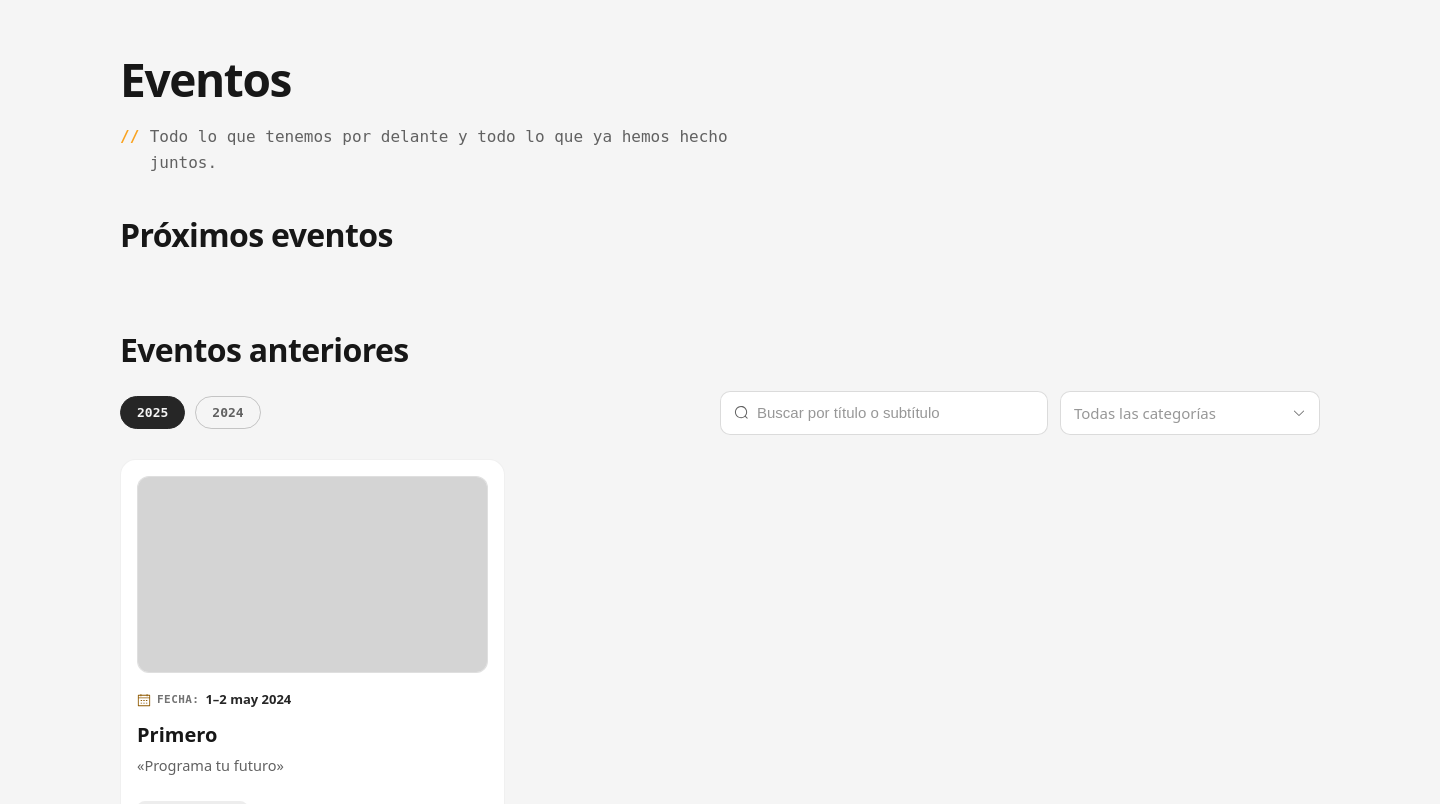
Test: events page › searches past events and reports when nothing matches
The width and height of the screenshot is (1440, 804).
Step 1. Type "  robots " into the field with placeholder "Buscar por título o subtítulo" → (896, 413), box [757,392,1034,434]
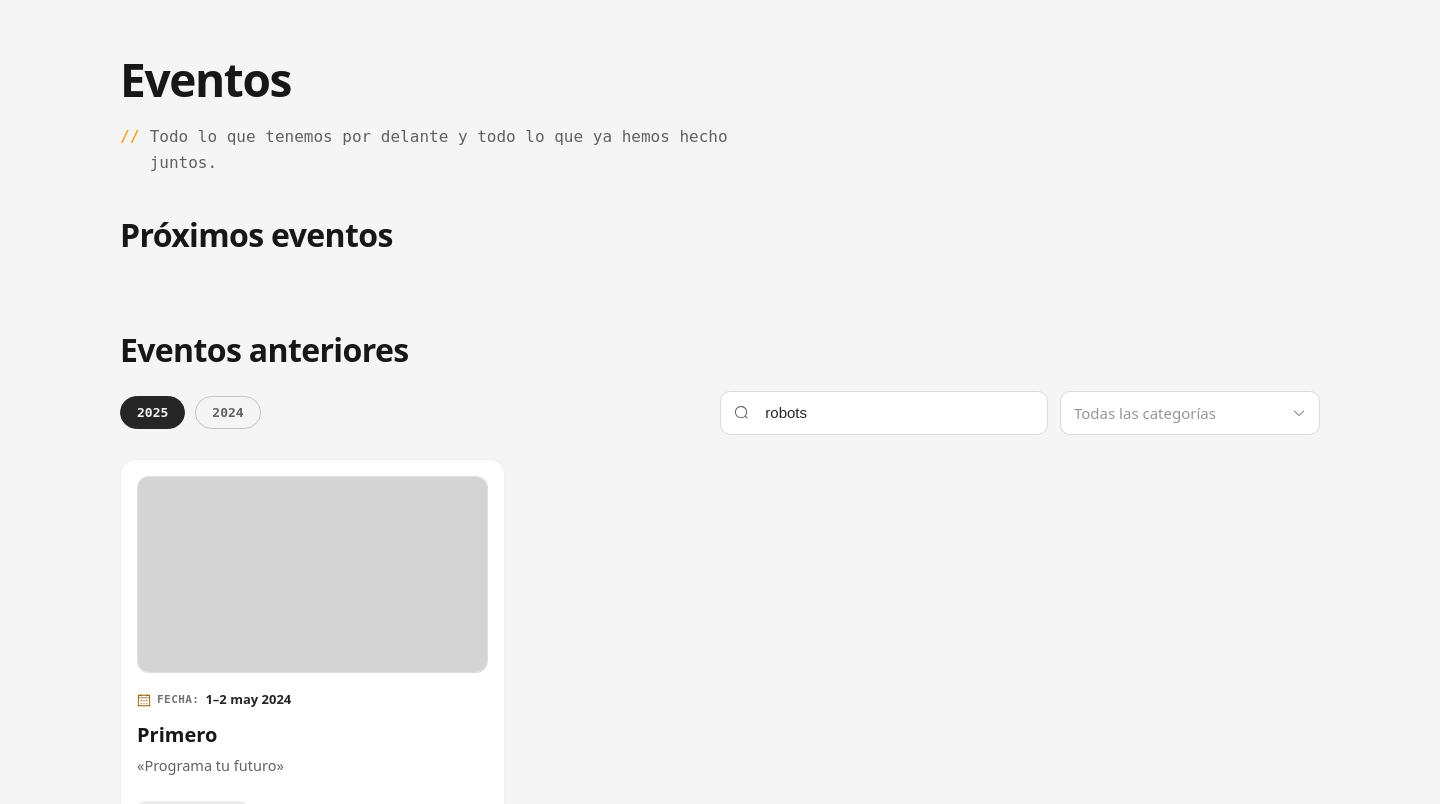
Step 2. Press Enter in the field named "Buscar por título o subtítulo", box [757,392,1034,434]
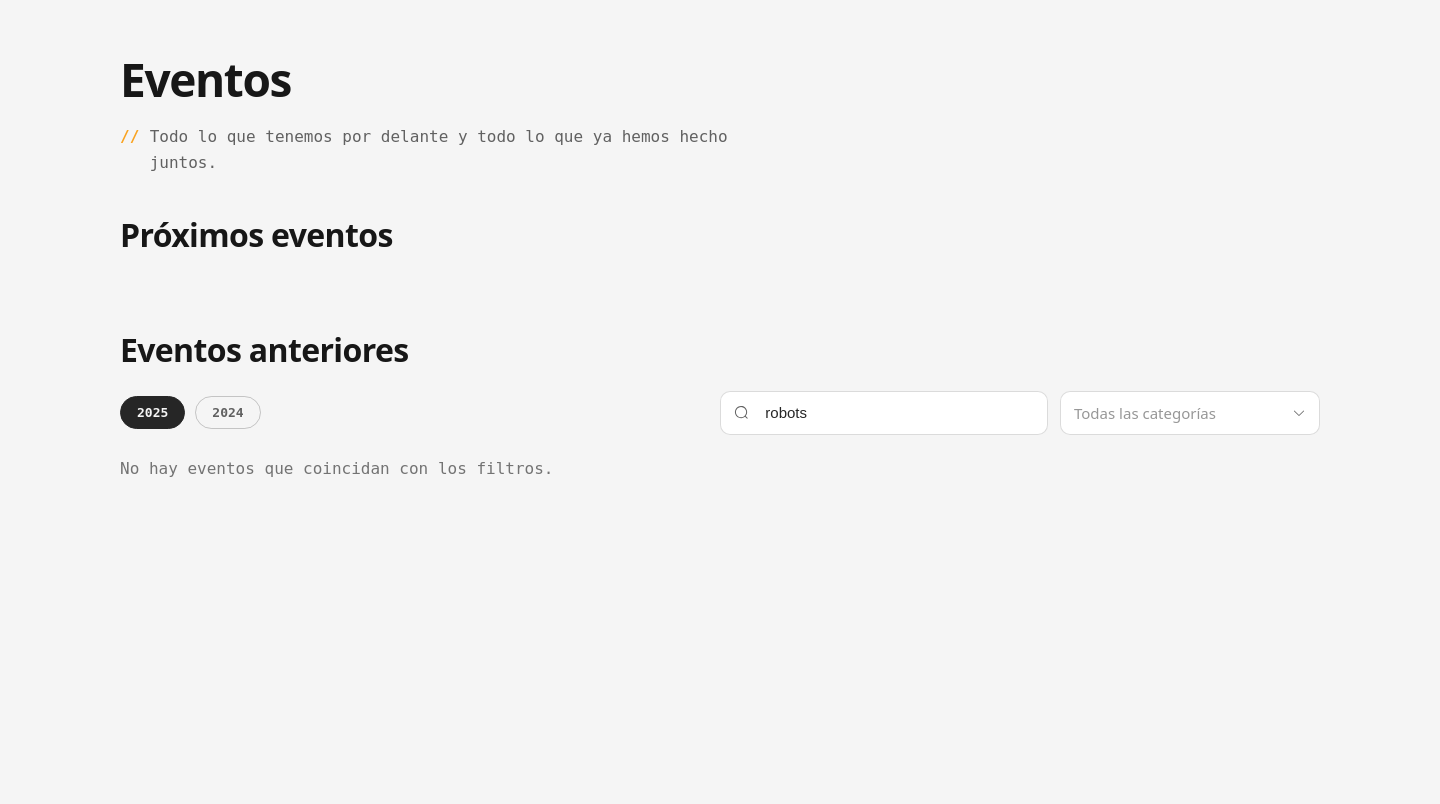
Expected: the text with class "events-loading" reads "No hay eventos que coincidan con los filtros.", [120,459,554,478]
